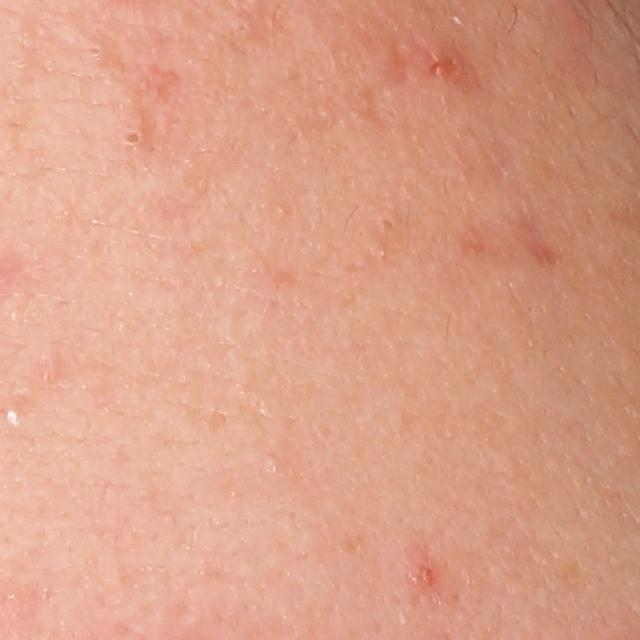comedo: (78, 40, 112, 72), (116, 123, 148, 153), (0, 403, 25, 428), (233, 14, 255, 38), (378, 214, 398, 234)
papule: (404, 36, 468, 91), (416, 565, 438, 588)
